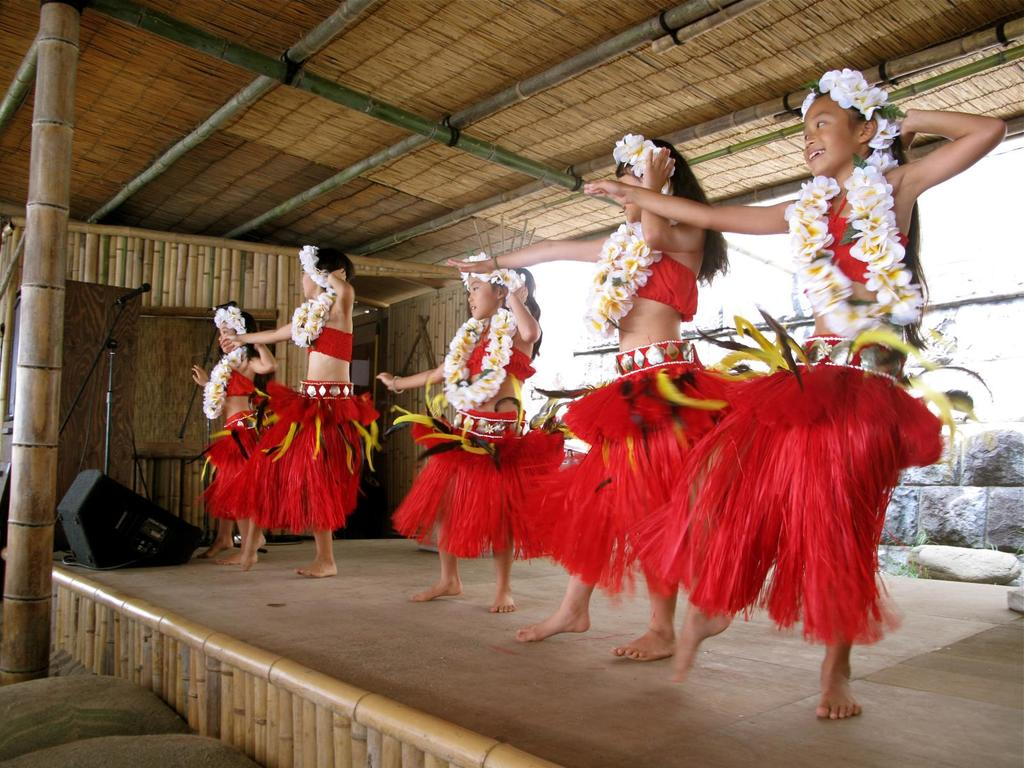Person: (584, 70, 1011, 723), (442, 137, 729, 660), (373, 265, 541, 612), (220, 247, 379, 578), (193, 302, 277, 563)
